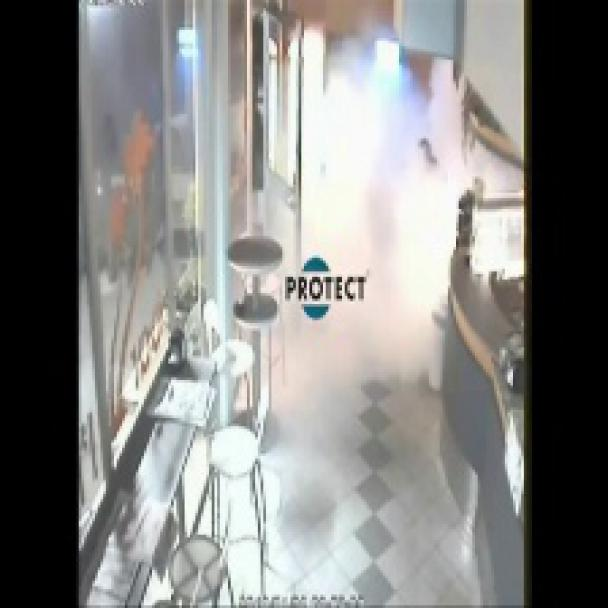smoke: (206, 16, 516, 409)
